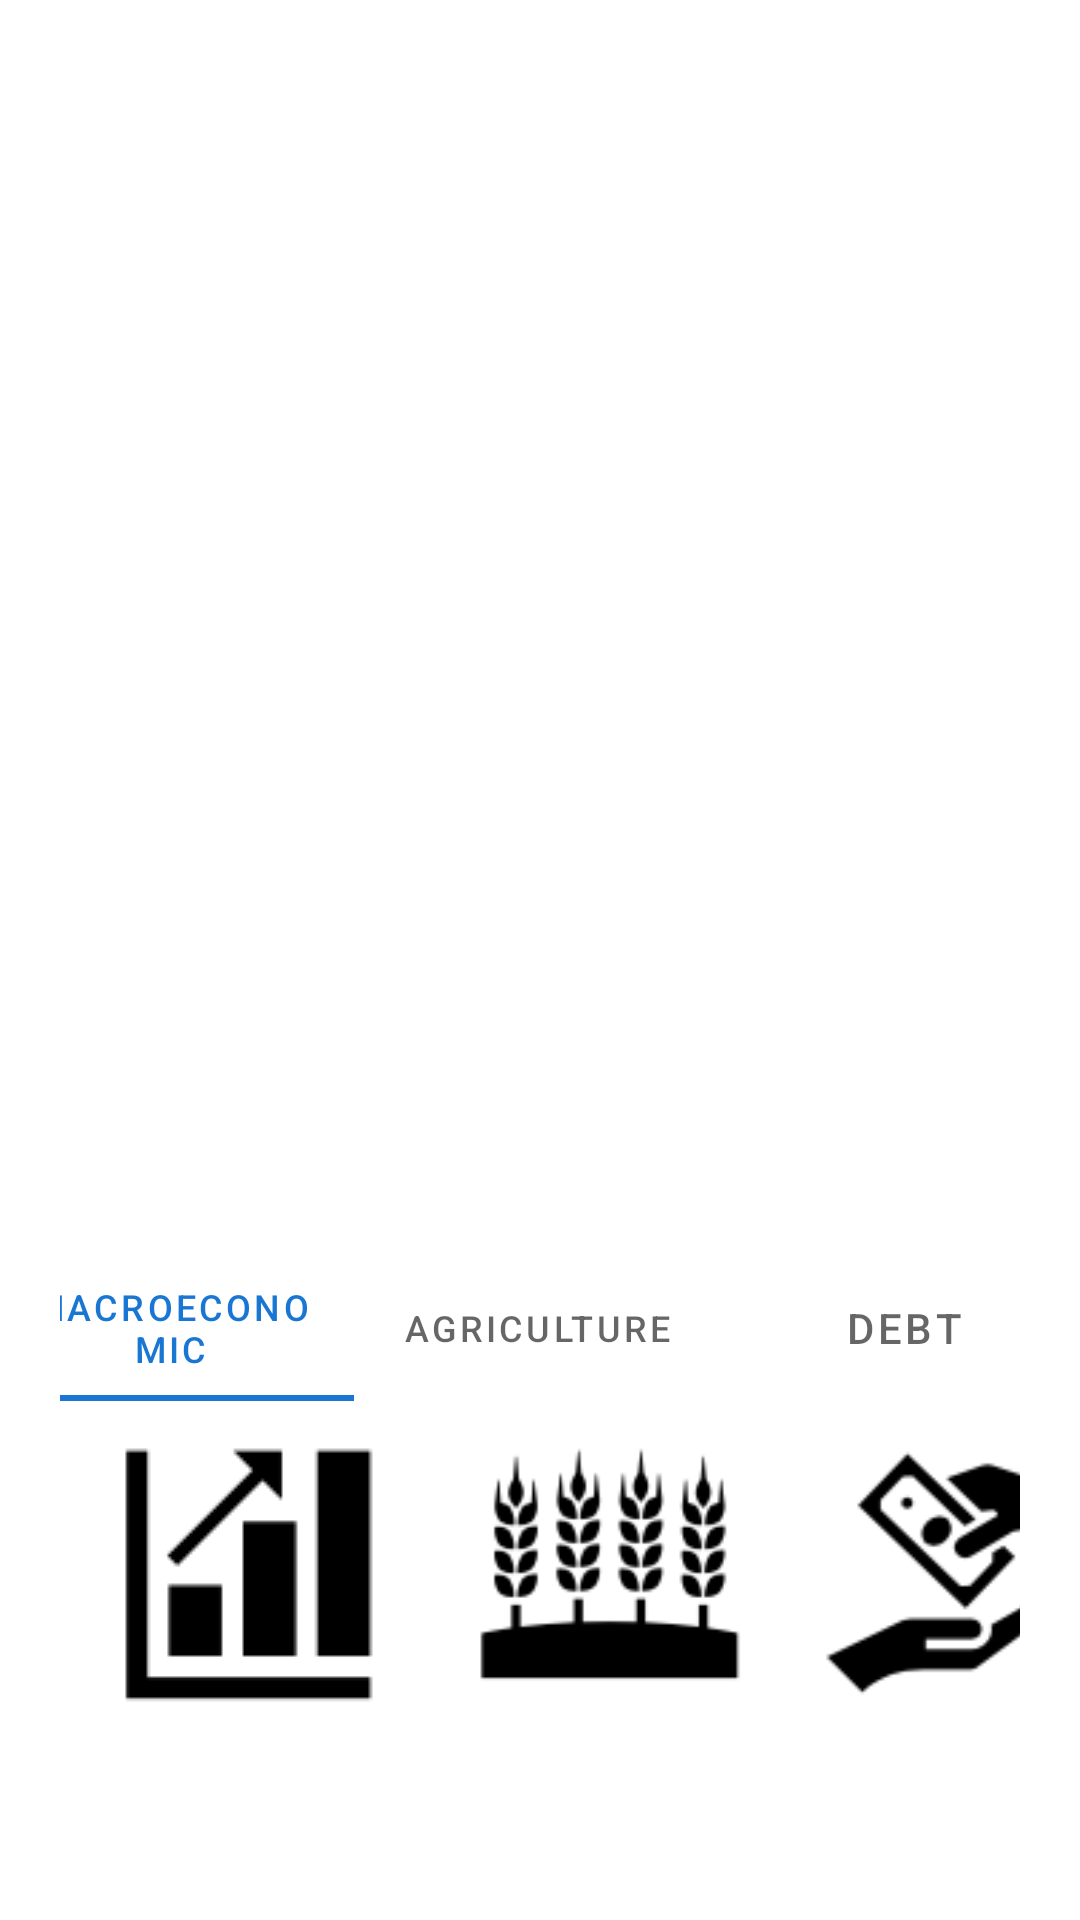

Point at icon controls on the screen. Image size 1080×1920, points as [x,y].
macro desel: [249,1574]
